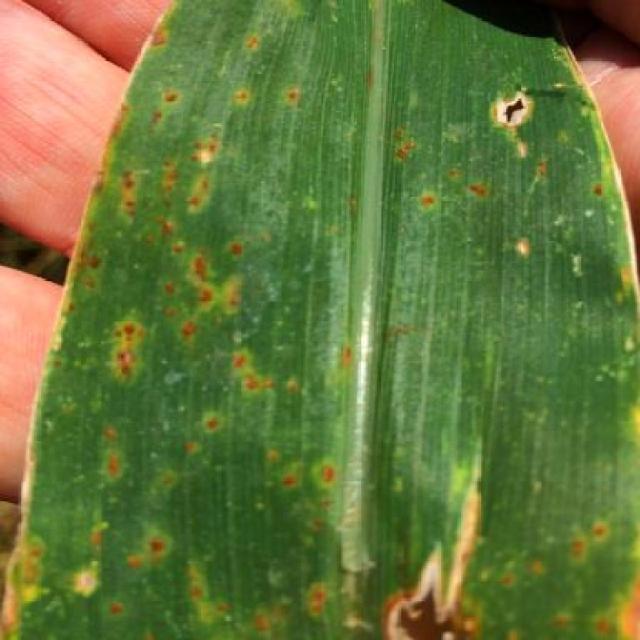Corn_Rust: (55, 0, 580, 640)
